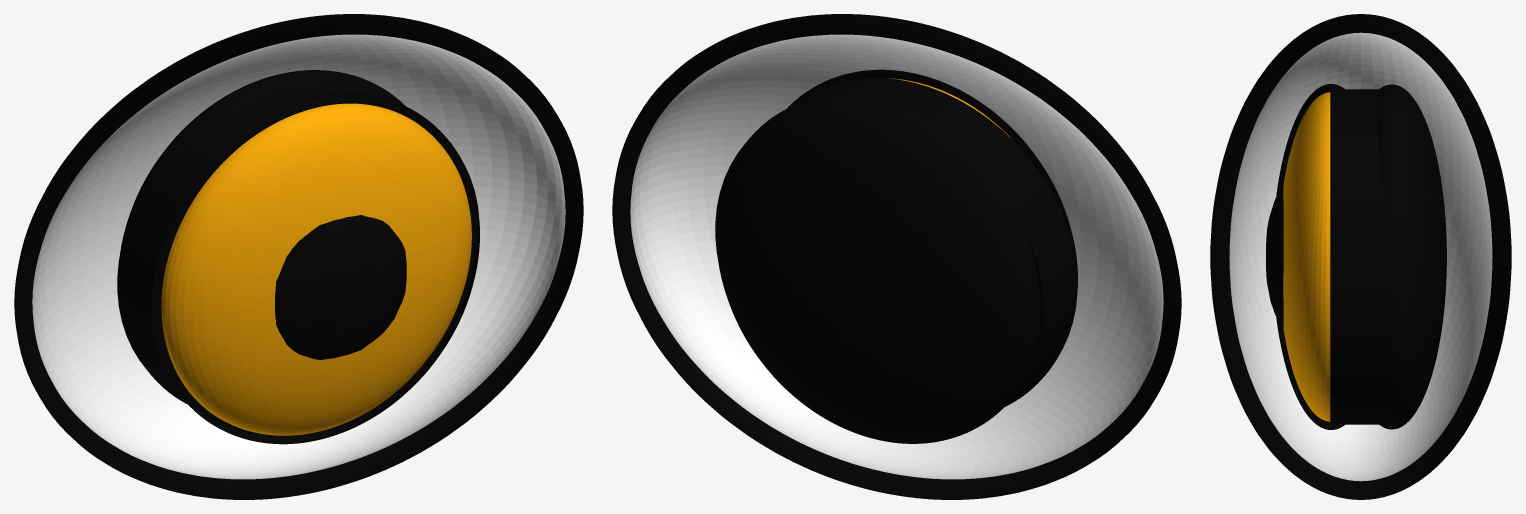
Rendered from Occulastrum.glb.
3 views of the same model, side by side, from view 1: azimuth 30°, elevation 25°; view 2: azimuth 150°, elevation 25°; view 3: azimuth 270°, elevation 25° (orthographic). The views are drawn at different scales.
Visible parts, largest first — view 1: Sclera, Iris 1, Retina, Seer, Iris 2; view 2: Sclera, Retina, Iris 2; view 3: Sclera, Retina, Iris 1, Seer, Iris 2.
Part boxes in pixels (left/top/right/bottom): Sclera: left=14, top=14, right=583, bottom=499; Iris 1: left=161, top=103, right=471, bottom=435; Retina: left=117, top=70, right=479, bottom=436; Seer: left=275, top=215, right=406, bottom=359; Iris 2: left=180, top=93, right=479, bottom=444; Sclera: left=612, top=14, right=1181, bottom=499; Retina: left=715, top=77, right=1077, bottom=443; Iris 2: left=787, top=69, right=1077, bottom=406; Sclera: left=1210, top=14, right=1511, bottom=499; Retina: left=1330, top=84, right=1446, bottom=429; Iris 1: left=1283, top=92, right=1330, bottom=421; Seer: left=1266, top=185, right=1283, bottom=328; Iris 2: left=1276, top=84, right=1344, bottom=429.
Bounding box in the file's own units: 1.55 × 1.23 × 0.8032.
